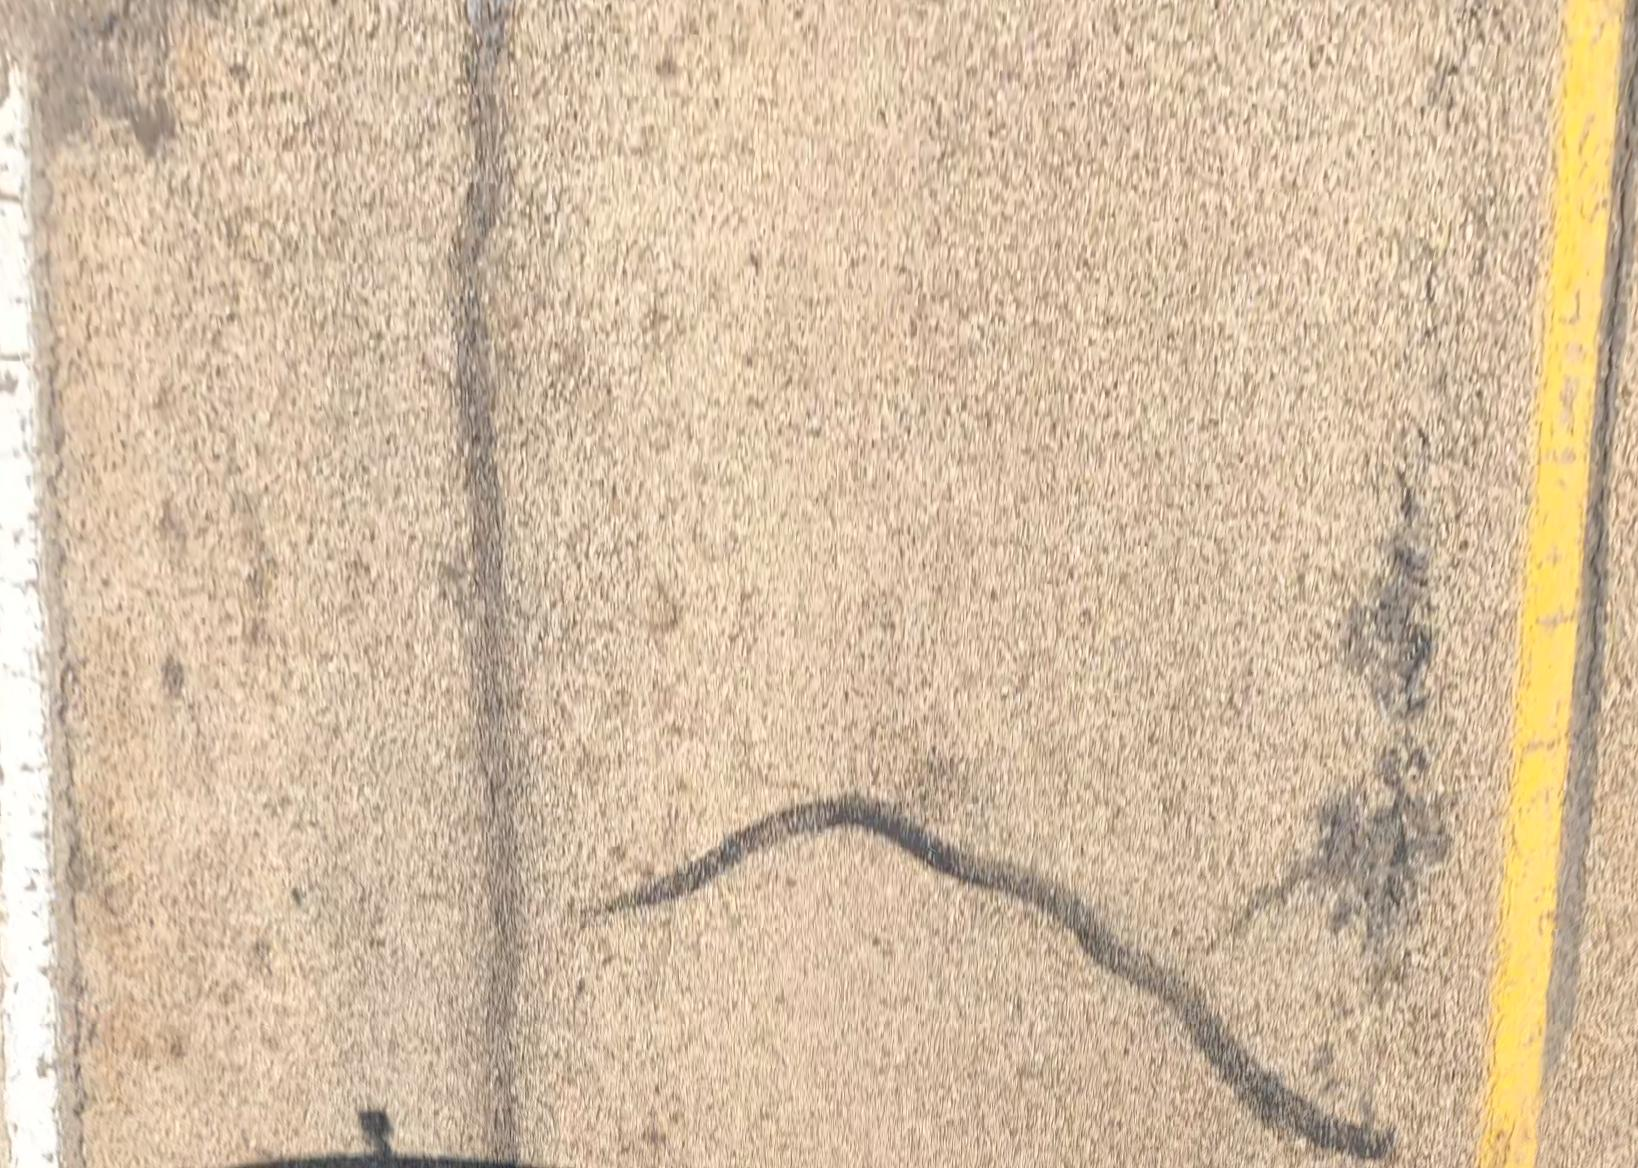pothole_patch_good: (1301, 734, 1450, 962), (1344, 545, 1442, 713)
